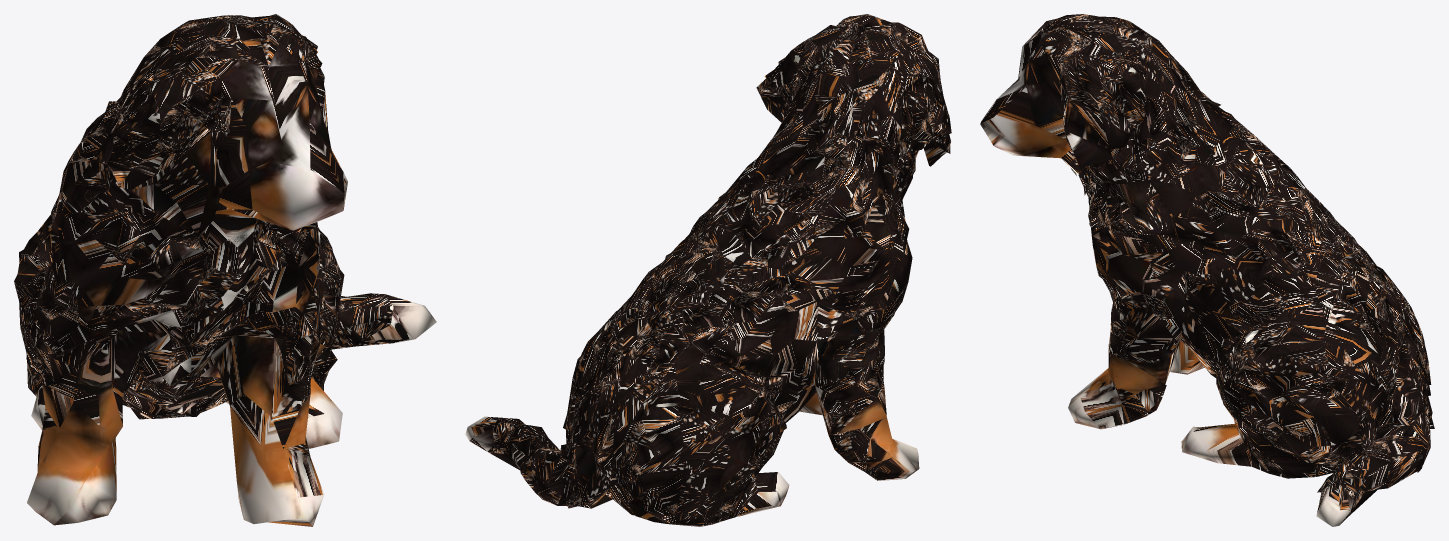
The model's file is puppy.glb.
3 renders of one model, left to right at view 1: azimuth 30°, elevation 25°; view 2: azimuth 150°, elevation 25°; view 3: azimuth 270°, elevation 25°, orthographic. The views are drawn at different scales.
Parts seen in each view (by area): view 1: puppy; view 2: puppy; view 3: puppy.
Part boxes in pixels (x1,y1,x2,y2): puppy: [14, 14, 436, 526]; puppy: [465, 14, 951, 526]; puppy: [980, 14, 1434, 526].
Size of the model in its own units: 0.4049 by 0.3951 by 0.4311.
Materials: 1 (1 with a texture image).
